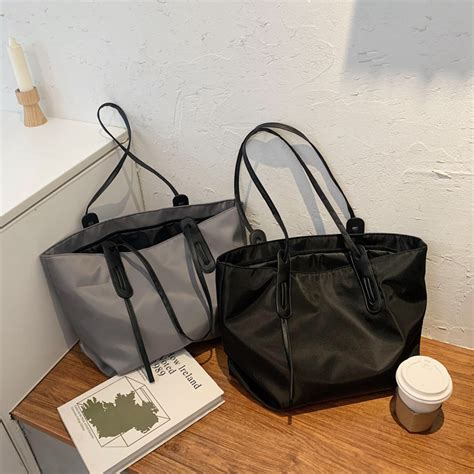nylon: (38, 100, 429, 417)
